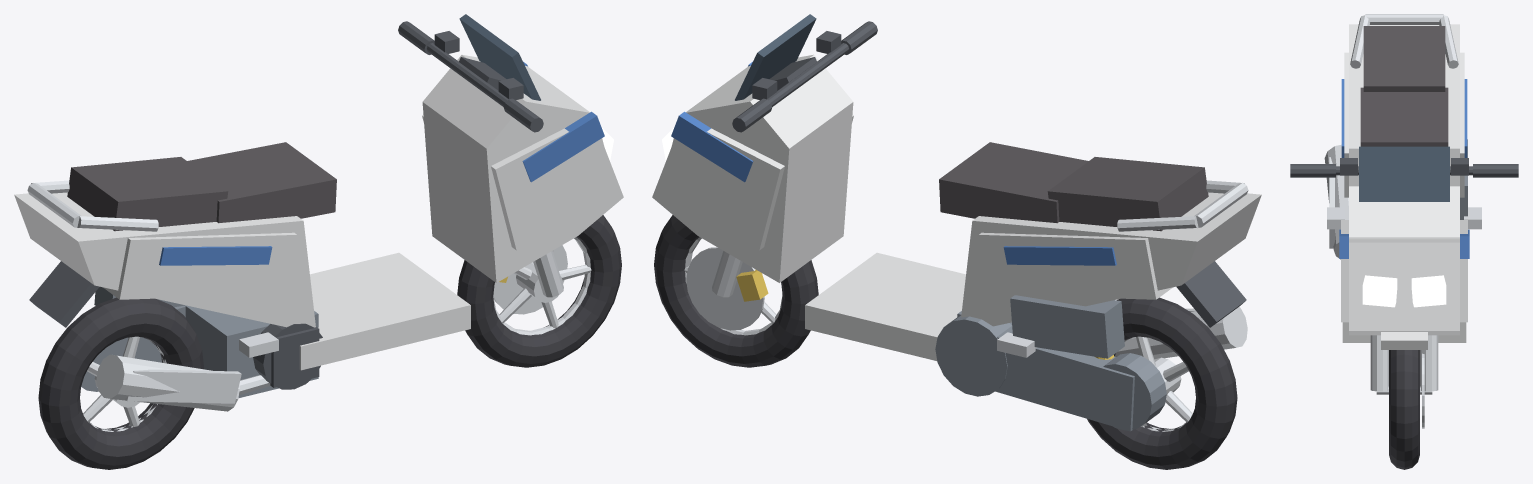
File: honda-vario-125-esp-cbs-cbs-iss.glb
The picture shows the model from 3 angles, left to right: view 1: azimuth 30°, elevation 25°; view 2: azimuth 150°, elevation 25°; view 3: azimuth 270°, elevation 25°; orthographic projection. The views are drawn at different scales.
Visible parts, largest first — view 1: Bodi_Utama, Roda_Ban, Jok_Motor, Cover_Knalpot, Aksen_Bodi, Velg_Roda, Master_Rem_Stang, Mesin_Blok, Cover_Radiator, Spakbor_Belakang, Windshield_Visor, Behel_Jok (+4 smaller); view 2: Bodi_Utama, Roda_Ban, Cover_CVT, Jok_Motor, Aksen_Bodi, Master_Rem_Stang, Piringan_Depan, Spakbor_Belakang, Windshield_Visor, Behel_Jok, Velg_Roda, Cover_Knalpot (+3 smaller); view 3: Bodi_Utama, Jok_Motor, Windshield_Visor, Roda_Ban, Lampu_Depan, Master_Rem_Stang, Suspensi_Depan, Behel_Jok, Cover_Knalpot, Aksen_Bodi, Spakbor_Depan, Footstep_Belakang (+1 smaller).
Boxes of the visible parts, <box> form: Bodi_Utama: <box>14,54,623,370</box>; Roda_Ban: <box>38,215,621,469</box>; Jok_Motor: <box>67,142,336,231</box>; Cover_Knalpot: <box>96,354,270,411</box>; Aksen_Bodi: <box>159,61,604,265</box>; Velg_Roda: <box>83,237,591,431</box>; Master_Rem_Stang: <box>398,21,543,132</box>; Mesin_Blok: <box>185,305,318,398</box>; Cover_Radiator: <box>253,323,322,389</box>; Spakbor_Belakang: <box>29,261,99,327</box>; Windshield_Visor: <box>459,14,540,100</box>; Behel_Jok: <box>27,180,158,231</box>; Bodi_Utama: <box>652,54,1261,360</box>; Roda_Ban: <box>654,215,1237,469</box>; Cover_CVT: <box>935,295,1166,431</box>; Jok_Motor: <box>939,142,1208,231</box>; Aksen_Bodi: <box>671,61,1116,265</box>; Master_Rem_Stang: <box>732,21,877,132</box>; Piringan_Depan: <box>686,247,764,330</box>; Spakbor_Belakang: <box>1176,261,1246,327</box>; Windshield_Visor: <box>735,14,816,100</box>; Behel_Jok: <box>1117,180,1248,231</box>; Velg_Roda: <box>684,237,1192,431</box>; Cover_Knalpot: <box>1115,307,1247,359</box>; Bodi_Utama: <box>1341,24,1467,342</box>; Jok_Motor: <box>1360,26,1448,146</box>; Windshield_Visor: <box>1359,146,1449,201</box>; Roda_Ban: <box>1389,350,1419,469</box>; Lampu_Depan: <box>1362,275,1446,307</box>; Master_Rem_Stang: <box>1290,158,1518,177</box>; Suspensi_Depan: <box>1370,335,1438,394</box>; Behel_Jok: <box>1350,14,1458,68</box>; Cover_Knalpot: <box>1324,144,1348,259</box>; Aksen_Bodi: <box>1339,79,1469,258</box>; Spakbor_Depan: <box>1381,332,1427,349</box>; Footstep_Belakang: <box>1327,207,1481,229</box>.
Size of the model in its own units: 1.77 by 1 by 0.7.
